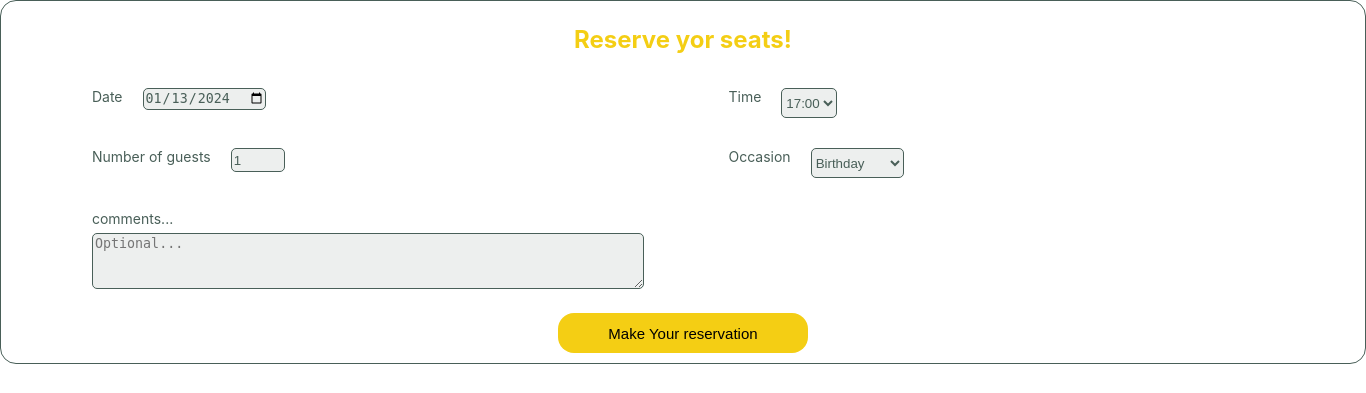
it: Booking form › should display an error message and disable sumbit button when date     field's value is empty
Clear the date field labelled "Date" at (204, 99), box x1=142 y1=88 x2=266 y2=110
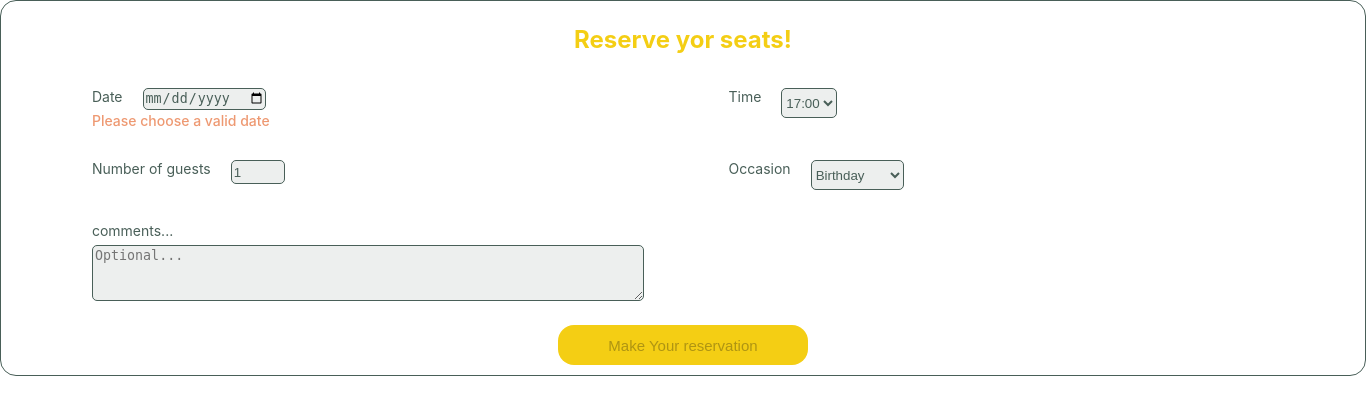
Expected: the text "Please choose a valid date" is shown, x1=92 y1=112 x2=270 y2=129
Expected: the button is disabled, x1=558 y1=325 x2=808 y2=365
